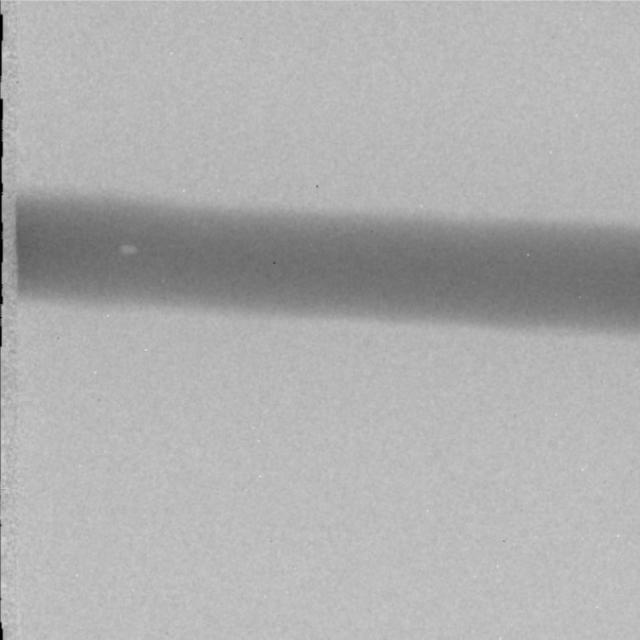air hole: (117, 240, 137, 257)
